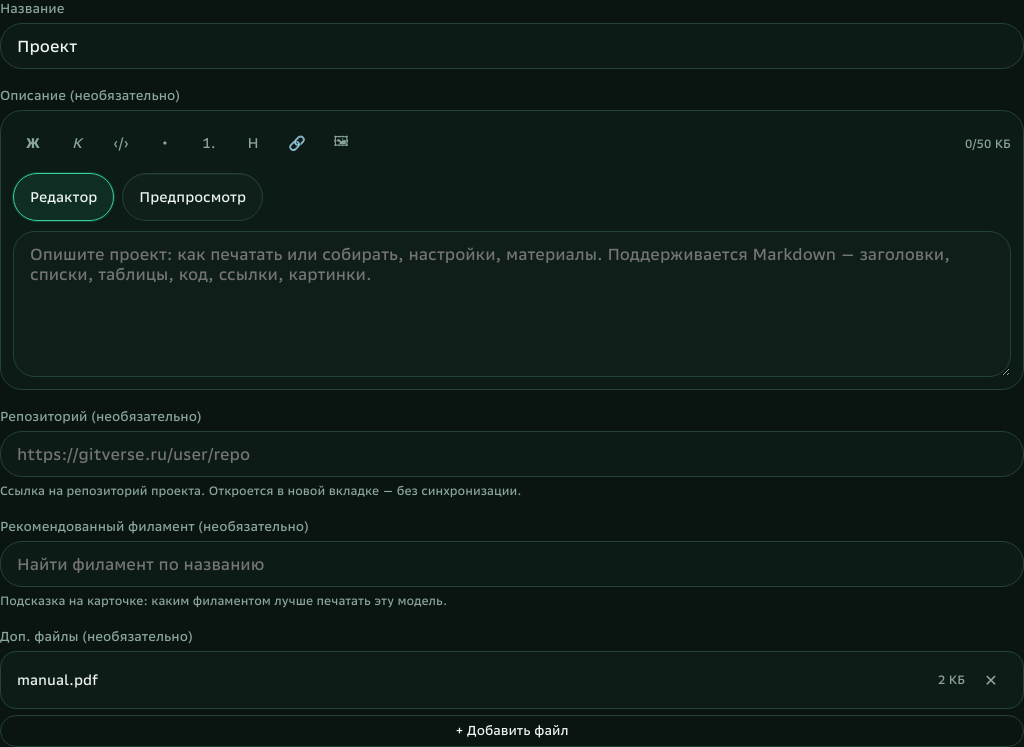
Scenario: AddModelFlow — доп. файлы (aux) › deletes an aux file after clicking remove
What coordinates should you click on to do the following:
click the button named "Удалить manual.pdf"
I would click on:
 (991, 680)
Its box is 975,664 -> 1007,696.
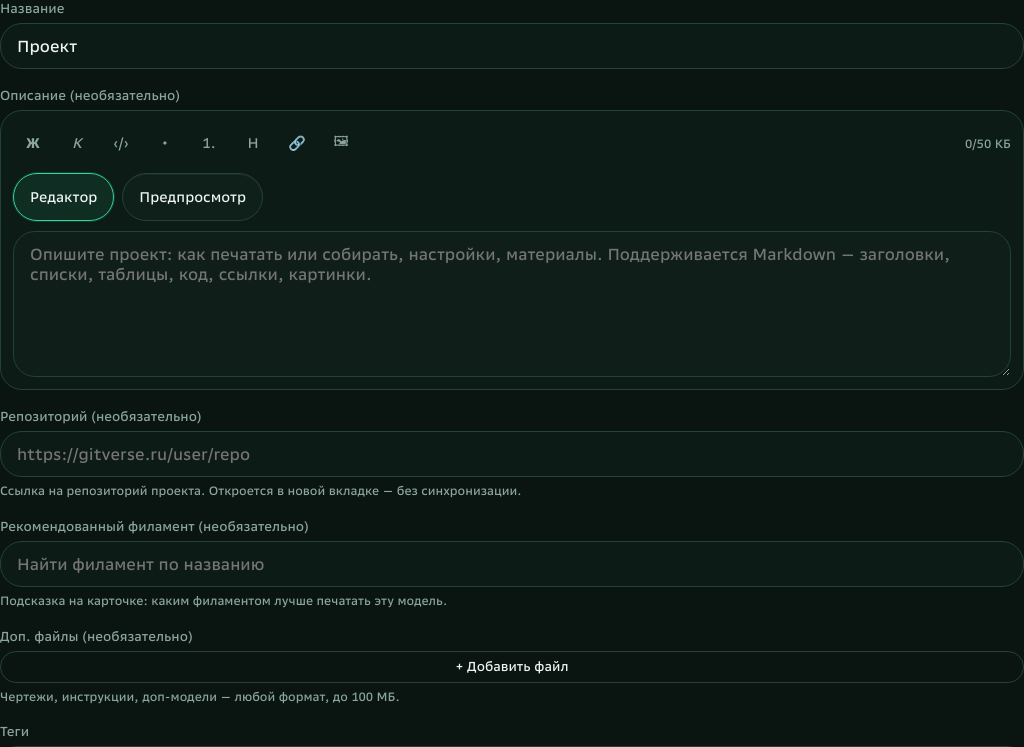
Check: the text "manual.pdf" is gone
